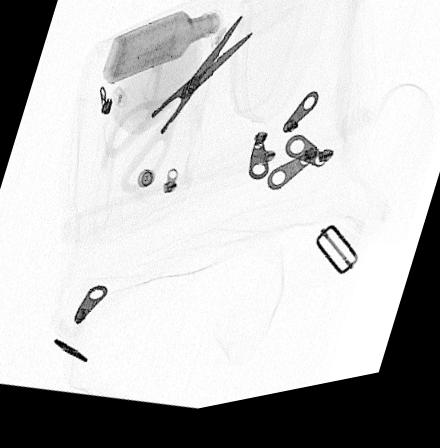Scissors: (104, 24, 254, 199)
